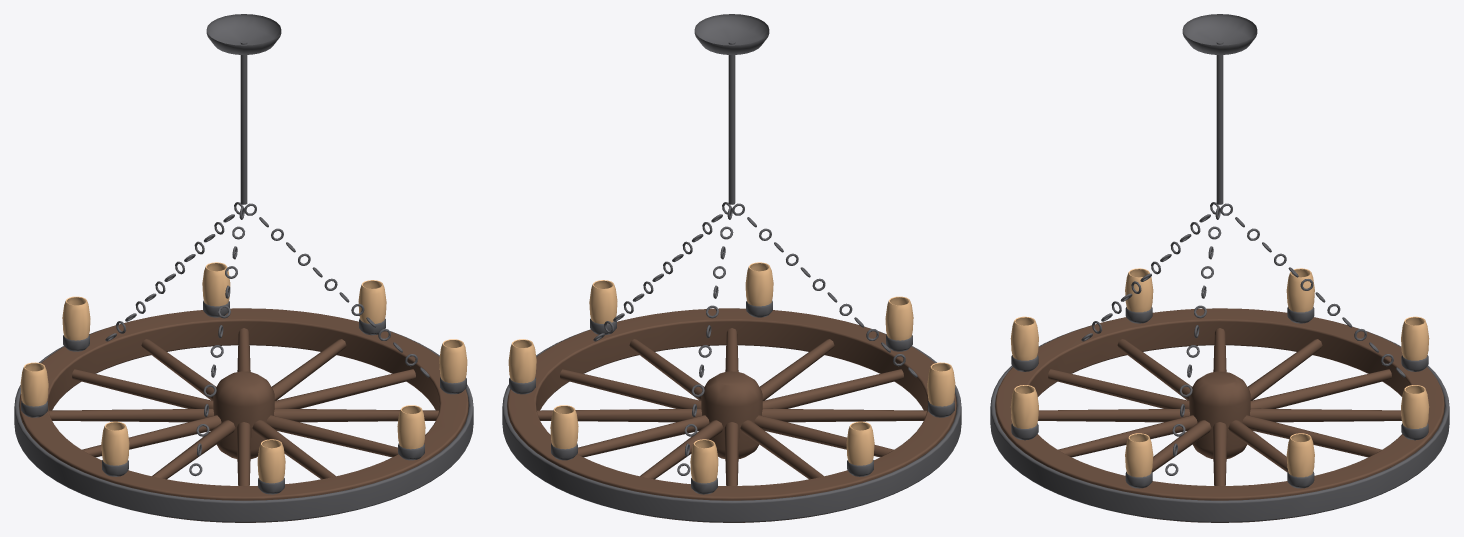
File: lp_wagon_wheel.glb
The picture shows the model from 3 angles, left to right: view 1: azimuth 30°, elevation 25°; view 2: azimuth 150°, elevation 25°; view 3: azimuth 270°, elevation 25°; orthographic projection.
Visible parts, largest first — view 1: lp_wagon_wheel; view 2: lp_wagon_wheel; view 3: lp_wagon_wheel.
Part boxes in pixels (x1,y1,x2,y2): lp_wagon_wheel: (14, 14, 473, 522); lp_wagon_wheel: (502, 14, 961, 522); lp_wagon_wheel: (990, 14, 1449, 522).
Size of the model in its own units: 1.35 by 1.37 by 1.35.
